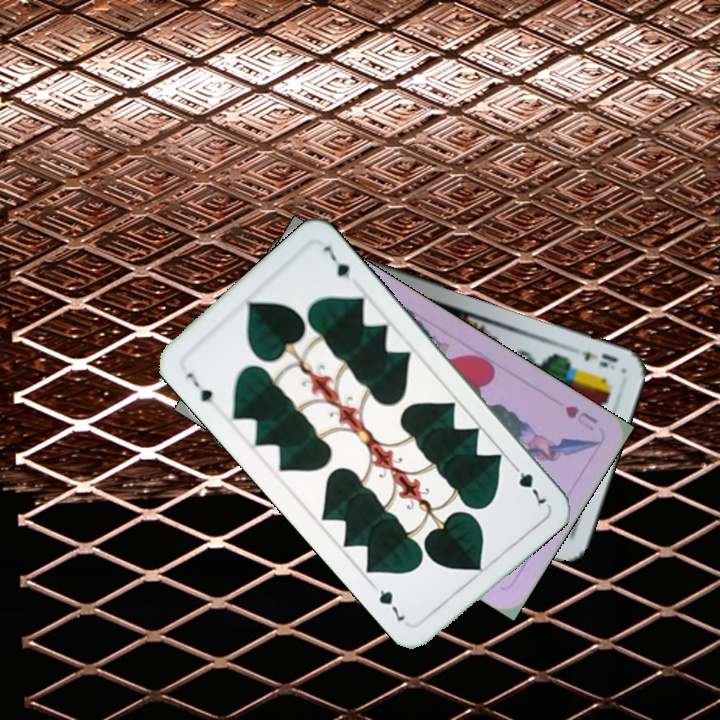EK: (577, 347, 620, 371)
G7: (507, 458, 550, 509), (182, 368, 215, 406)
HU: (560, 401, 601, 433)
